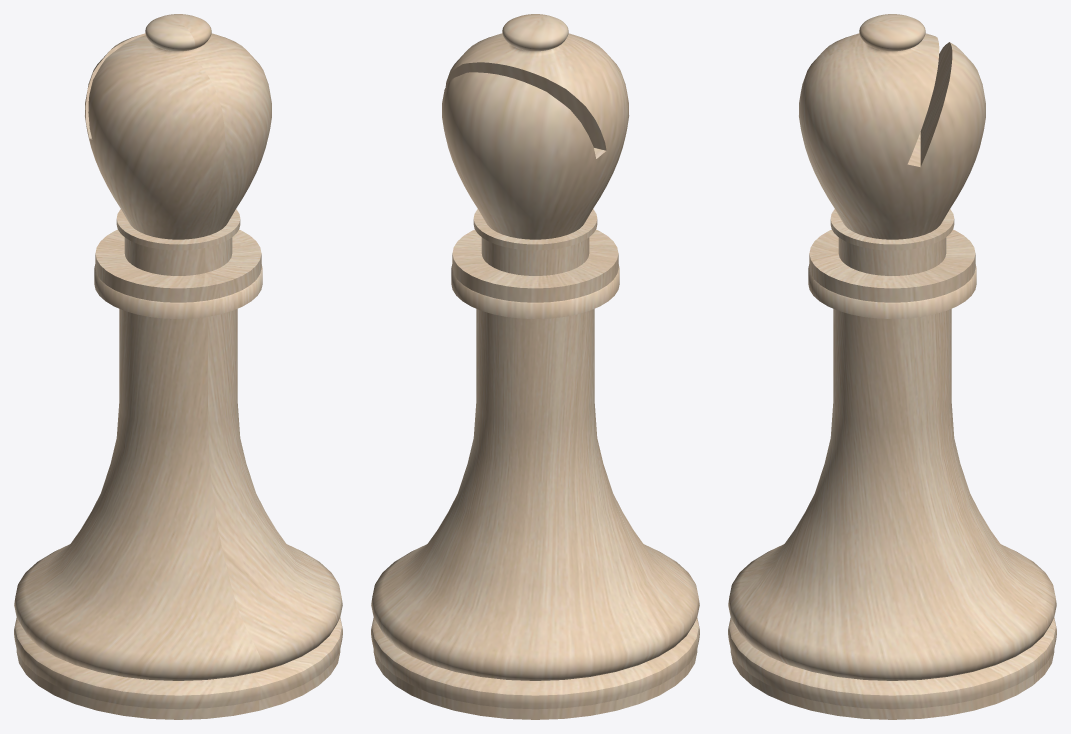
Rendered from bishop.glb.
The picture shows the model from 3 angles, left to right: view 1: azimuth 30°, elevation 25°; view 2: azimuth 150°, elevation 25°; view 3: azimuth 270°, elevation 25°; orthographic projection.
Parts seen in each view (by area): view 1: Object002_02 - Default_0; view 2: Object002_02 - Default_0; view 3: Object002_02 - Default_0.
Boxes of the visible parts, x1,y1,x2,y2 form: Object002_02 - Default_0: (14,14,342,719); Object002_02 - Default_0: (371,14,699,719); Object002_02 - Default_0: (728,14,1056,719).
Bounding box in the file's own units: 0.0154 × 0.0326 × 0.0154.
1 material, 1 textured.
